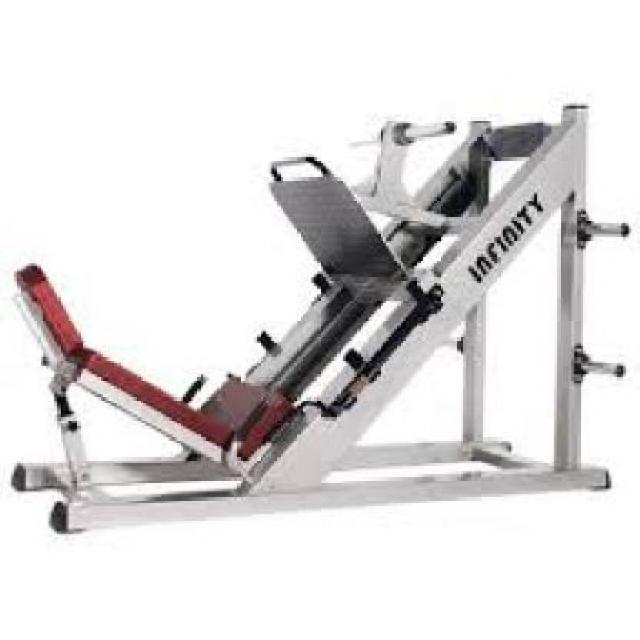leg press: (7, 65, 638, 589)
